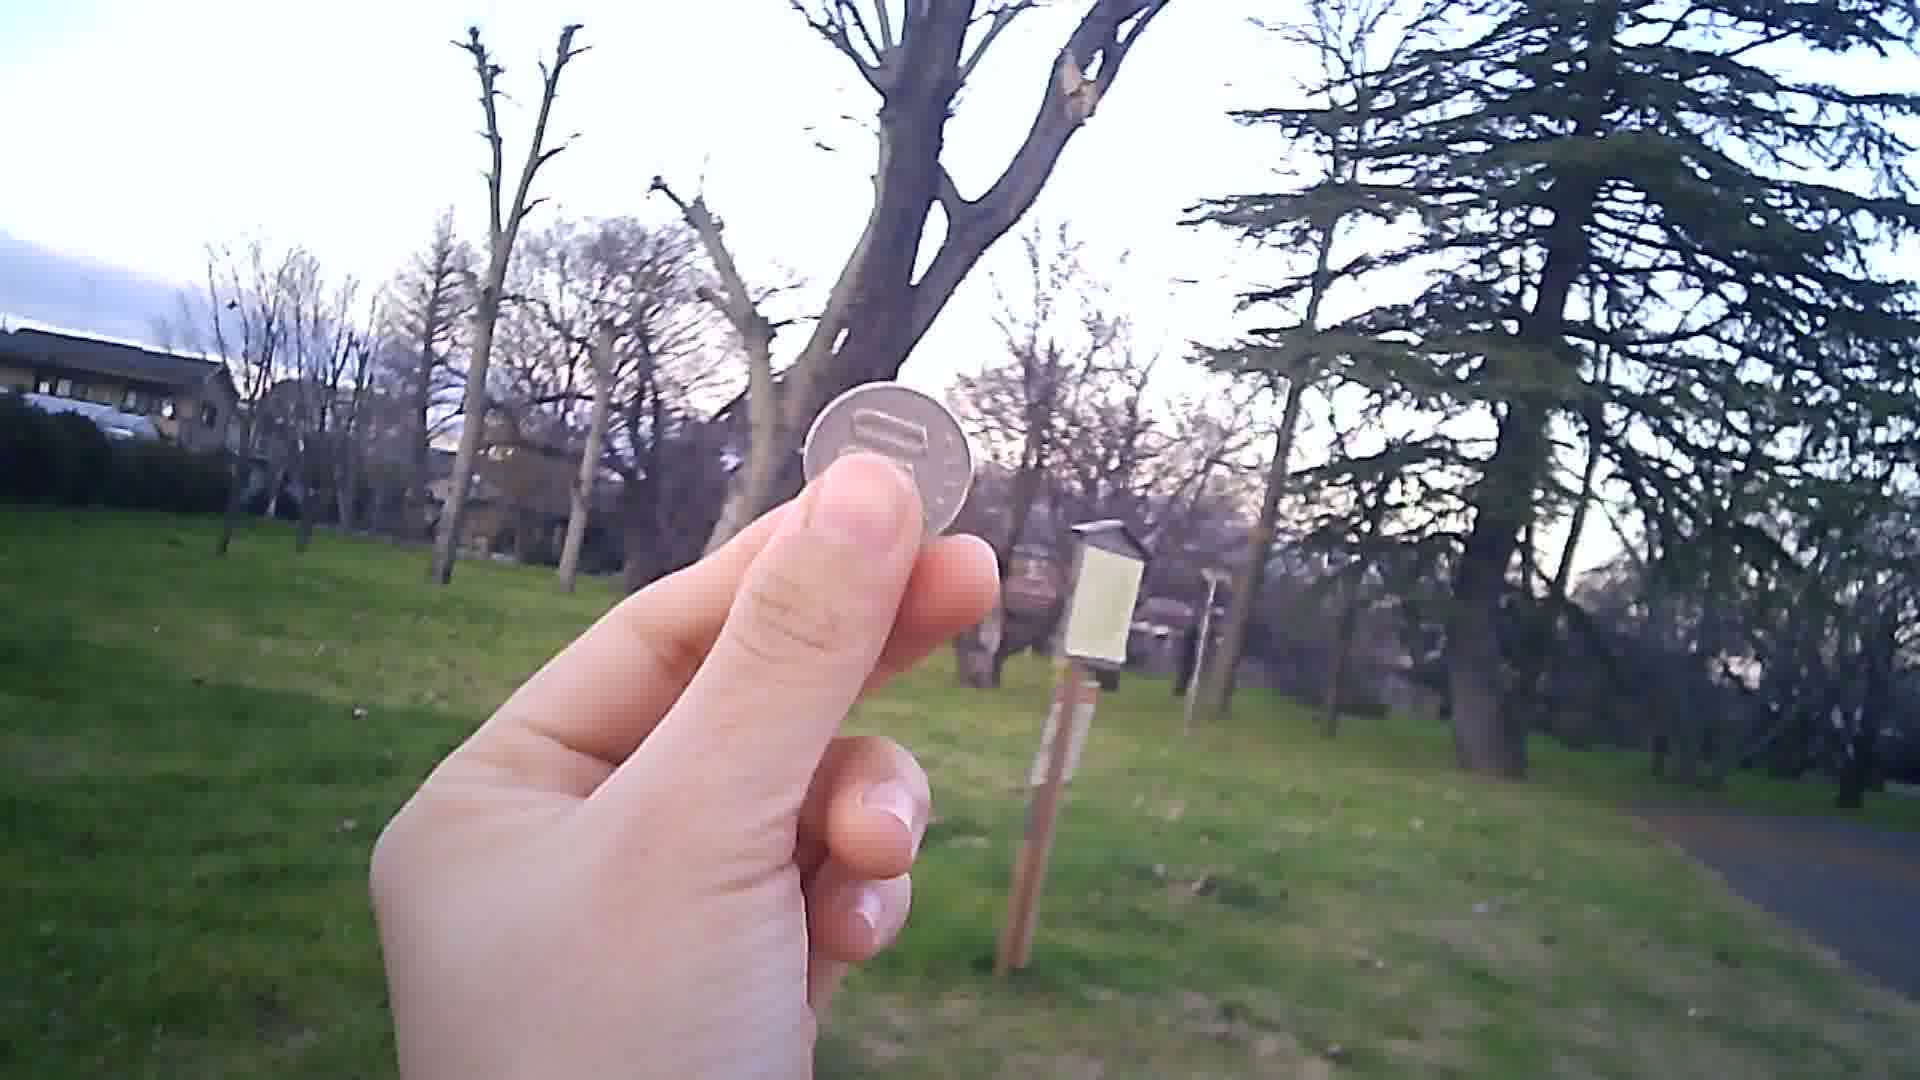100 Yen: (802, 378, 988, 542)
